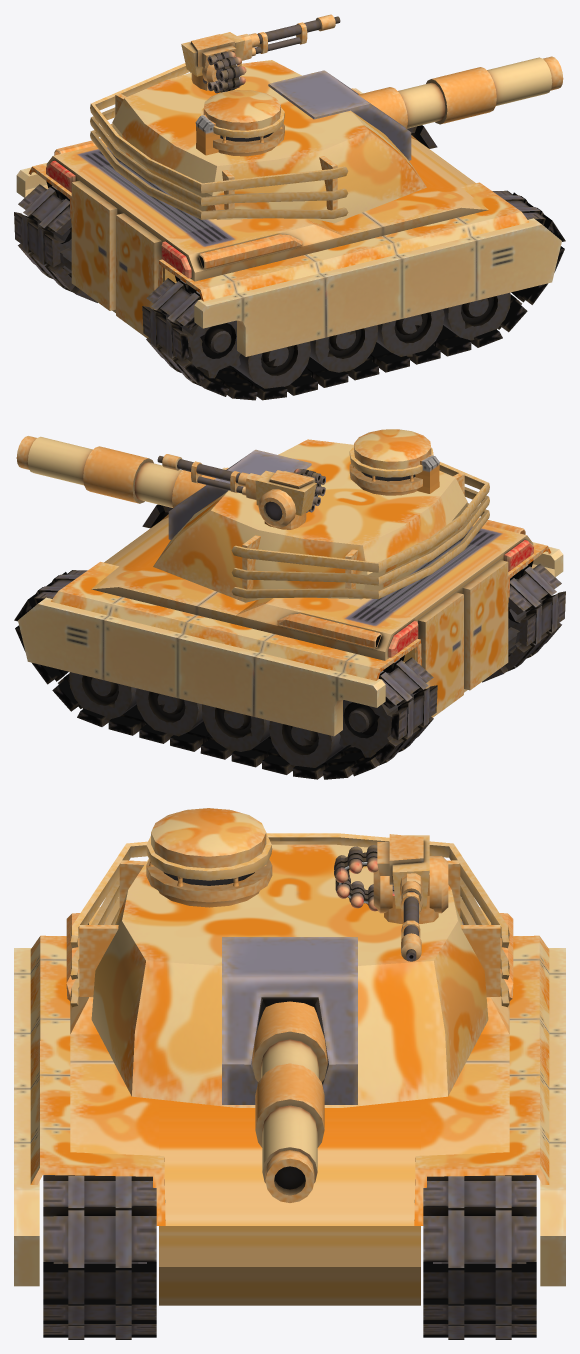
The model's file is TANK_SELECTION_2.fbx.
The picture shows the model from 3 angles, top to bottom: view 1: azimuth 30°, elevation 25°; view 2: azimuth 150°, elevation 25°; view 3: azimuth 270°, elevation 25°; orthographic projection. The views are drawn at different scales.
Parts seen in each view (by area): view 1: Cube.001, Cube.002, Cube, Cube.014, Cube.013, Cube.012, Cylinder.024, Cylinder.001, Cylinder.006, Cylinder.009, Cylinder.005, Cube.006 (+3 smaller); view 2: Cube.001, Cube.002, Cube.012, Cube.014, Cube.013, Cube, Cylinder.024, Cube.006, Cylinder.001, Cylinder.008, Cylinder.009, Cylinder.007 (+3 smaller); view 3: Cube.001, Cube.002, Cube, Cube.012, Cube.013, Cube.006, Cylinder.029, Cube.005.
Boxes of the visible parts, x1,y1,x2,y2 form: Cube.001: [16, 88, 561, 356]; Cube.002: [90, 60, 426, 223]; Cube: [142, 190, 565, 400]; Cube.014: [71, 180, 161, 338]; Cube.013: [358, 56, 563, 128]; Cube.012: [14, 125, 437, 302]; Cylinder.024: [34, 199, 240, 378]; Cylinder.001: [235, 341, 310, 388]; Cylinder.006: [376, 309, 444, 356]; Cylinder.009: [310, 325, 377, 372]; Cylinder.005: [443, 292, 510, 340]; Cube.006: [181, 32, 244, 90]; Cube.001: [18, 467, 563, 736]; Cube.002: [153, 429, 489, 602]; Cube.012: [14, 570, 437, 779]; Cube.014: [418, 560, 508, 717]; Cube.013: [16, 436, 215, 507]; Cube: [142, 504, 565, 682]; Cylinder.024: [339, 579, 545, 757]; Cube.006: [255, 470, 316, 529]; Cylinder.001: [269, 721, 345, 767]; Cylinder.008: [135, 688, 203, 736]; Cylinder.009: [202, 704, 270, 751]; Cylinder.007: [69, 672, 136, 719]; Cube.001: [14, 907, 565, 1305]; Cube.002: [70, 808, 509, 1107]; Cube: [43, 1175, 156, 1339]; Cube.012: [423, 1175, 536, 1339]; Cube.013: [252, 1001, 327, 1202]; Cube.006: [373, 834, 448, 923]; Cylinder.029: [334, 845, 394, 911]; Cube.005: [400, 873, 422, 961].
Size of the model in its own units: 121 by 64.8 by 85.33.
